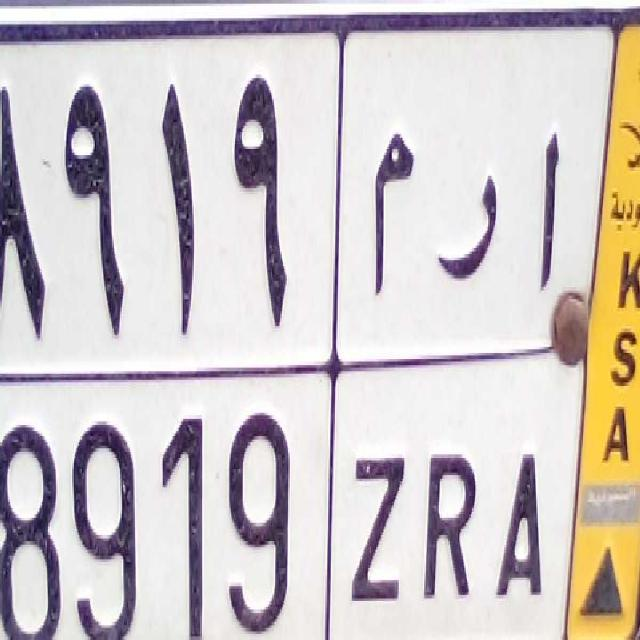license_plate: (0, 376, 578, 640)
